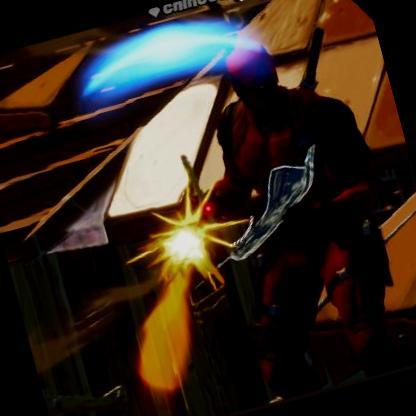person: (174, 33, 416, 398)
